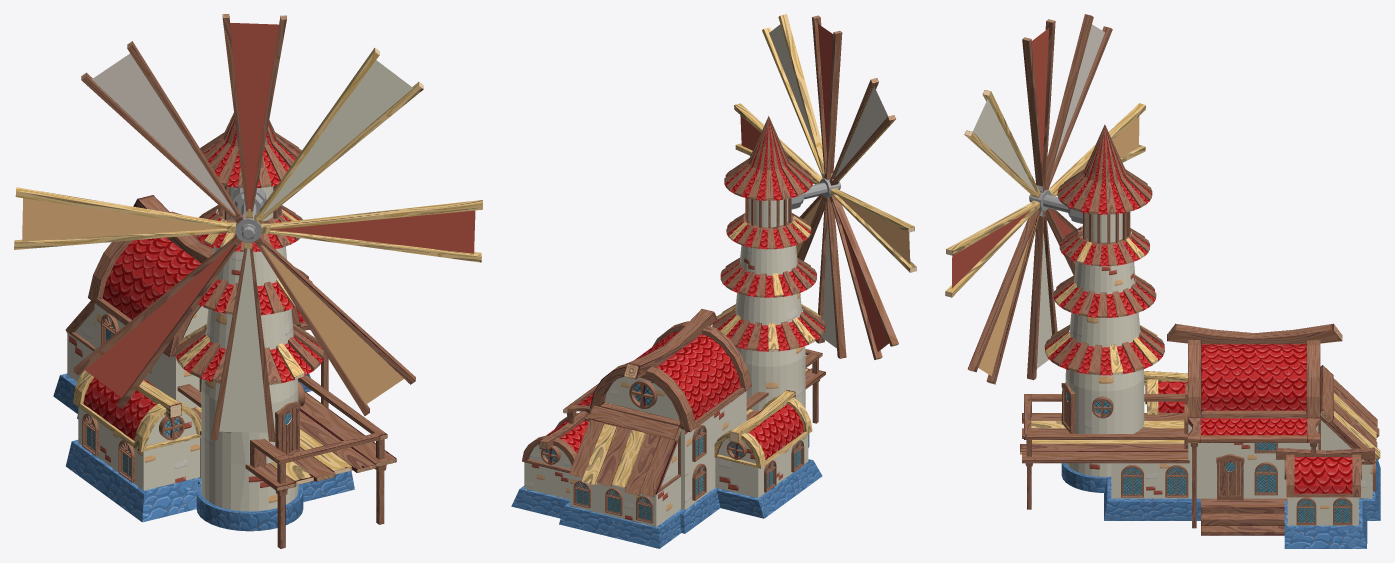
The model's file is Day 5 - Fantasy Windmill-FIN1.glb.
3 views of the same model, side by side, from view 1: azimuth 30°, elevation 25°; view 2: azimuth 150°, elevation 25°; view 3: azimuth 270°, elevation 25° (orthographic). The views are drawn at different scales.
Visible parts, largest first — view 1: Final Windmill2; view 2: Final Windmill2; view 3: Final Windmill2.
Boxes of the visible parts, x1,y1,x2,y2 form: Final Windmill2: (14,14,482,548); Final Windmill2: (511,14,916,548); Final Windmill2: (945,14,1380,548).
Size of the model in its own units: 23.4 by 30.69 by 27.8.
Materials: 6 (5 with a texture image).
